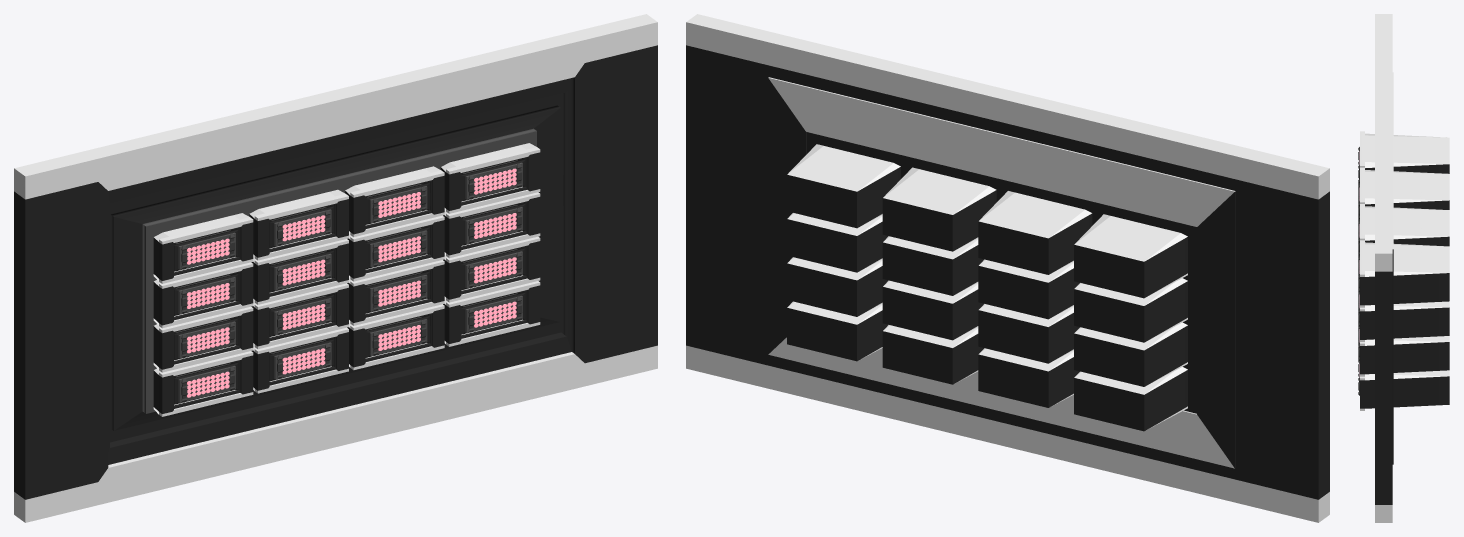
Rendered from HackerWallServer.fbx.
3 views of the same model, side by side, from view 1: azimuth 30°, elevation 25°; view 2: azimuth 150°, elevation 25°; view 3: azimuth 270°, elevation 25° (orthographic). The views are drawn at different scales.
Parts seen in each view (by area): view 1: Cube.003, Cube.004; view 2: Cube.003, Cube.004; view 3: Cube.004, Cube.003.
Boxes of the visible parts, box(x1,y1,x2,y2) form: Cube.003: box(14, 14, 657, 522); Cube.004: box(153, 143, 540, 416); Cube.003: box(686, 14, 1329, 522); Cube.004: box(787, 144, 1187, 431); Cube.004: box(1358, 131, 1449, 410); Cube.003: box(1375, 14, 1393, 522).
Bounding box in the file's own units: 8008 × 4192 × 1291.
